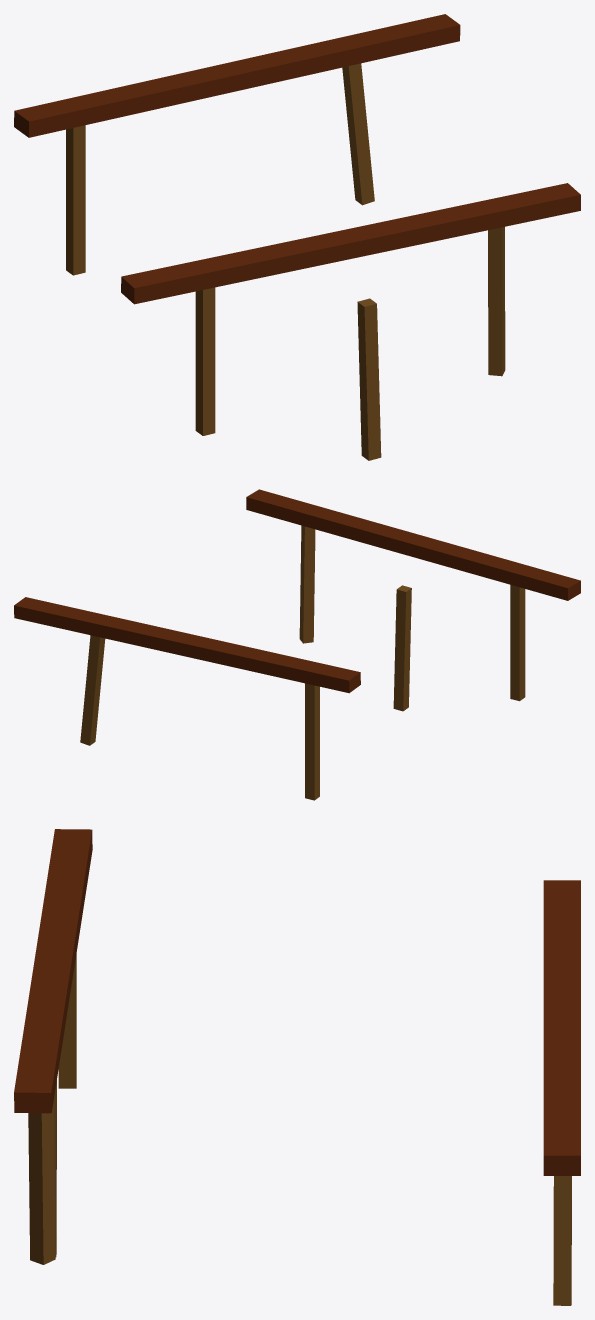
Rendered from StairsAdd.fbx.
The picture shows the model from 3 angles, top to bottom: view 1: azimuth 30°, elevation 25°; view 2: azimuth 150°, elevation 25°; view 3: azimuth 270°, elevation 25°; orthographic projection. The views are drawn at different scales.
Visible parts, largest first — view 1: Cube.005, Cube.003, Cube.007, Cube.004, Cube.001, Cube.002, Cube.006; view 2: Cube.003, Cube.005, Cube.007, Cube.004, Cube.001, Cube.006, Cube.002; view 3: Cube.005, Cube.003, Cube.006, Cube.002, Cube.004.
Boxes of the visible parts, x1,y1,x2,y2 form: Cube.005: (121, 183, 580, 304); Cube.003: (14, 14, 460, 137); Cube.007: (357, 298, 381, 460); Cube.004: (195, 287, 215, 435); Cube.001: (66, 125, 85, 275); Cube.002: (342, 63, 374, 205); Cube.006: (488, 227, 505, 376); Cube.003: (14, 597, 360, 693); Cube.005: (246, 489, 580, 600); Cube.007: (393, 585, 411, 711); Cube.004: (510, 585, 525, 701); Cube.001: (305, 683, 319, 800); Cube.006: (299, 525, 315, 643); Cube.002: (80, 635, 105, 745); Cube.005: (14, 829, 92, 1113); Cube.003: (543, 880, 580, 1175); Cube.006: (28, 1102, 55, 1264); Cube.002: (553, 1176, 571, 1305); Cube.004: (58, 954, 76, 1088).
Bounding box in the file's own units: 1448 × 602 × 1087.
